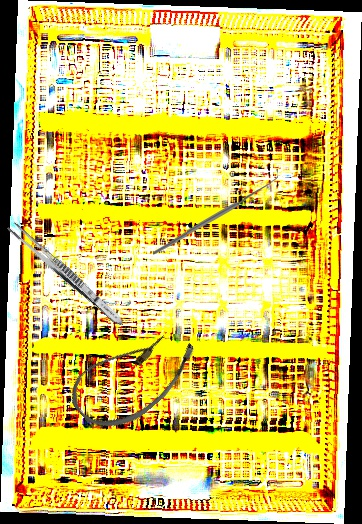Cannula: (61, 307, 206, 446)
Dressing Forceps: (4, 219, 128, 330)
Hook Surgical: (151, 168, 280, 257)
